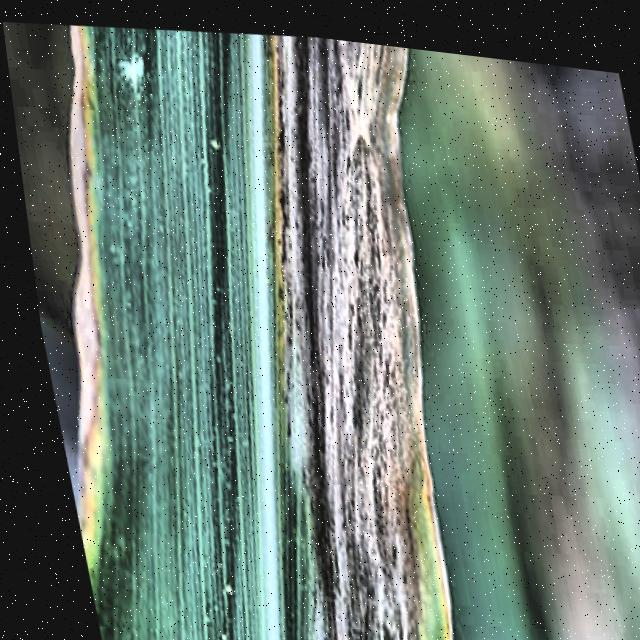blight: (0, 0, 523, 640)
